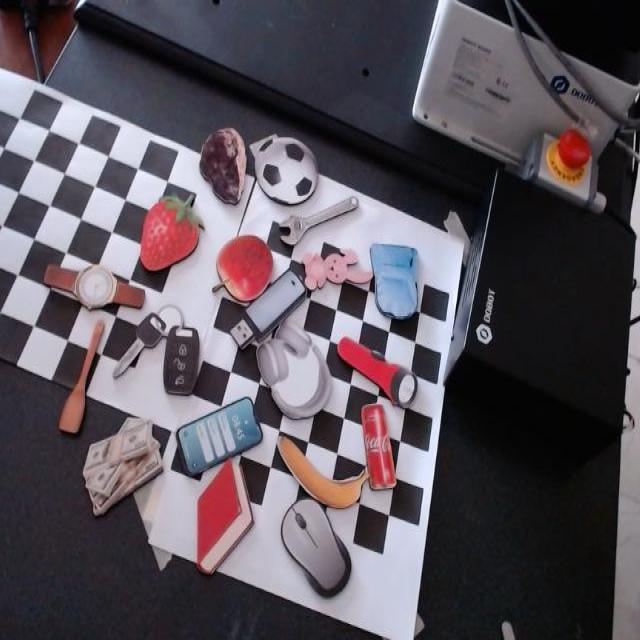Other Objects: (248, 308, 341, 434), (72, 406, 169, 518), (273, 488, 358, 610), (227, 254, 314, 361), (113, 297, 206, 397), (268, 434, 369, 518), (330, 332, 422, 414), (175, 396, 262, 476), (244, 129, 320, 209), (58, 319, 104, 433), (43, 261, 144, 309), (212, 233, 273, 301), (278, 195, 358, 245), (199, 125, 246, 204), (371, 244, 417, 319), (360, 401, 396, 491), (301, 247, 373, 291)
